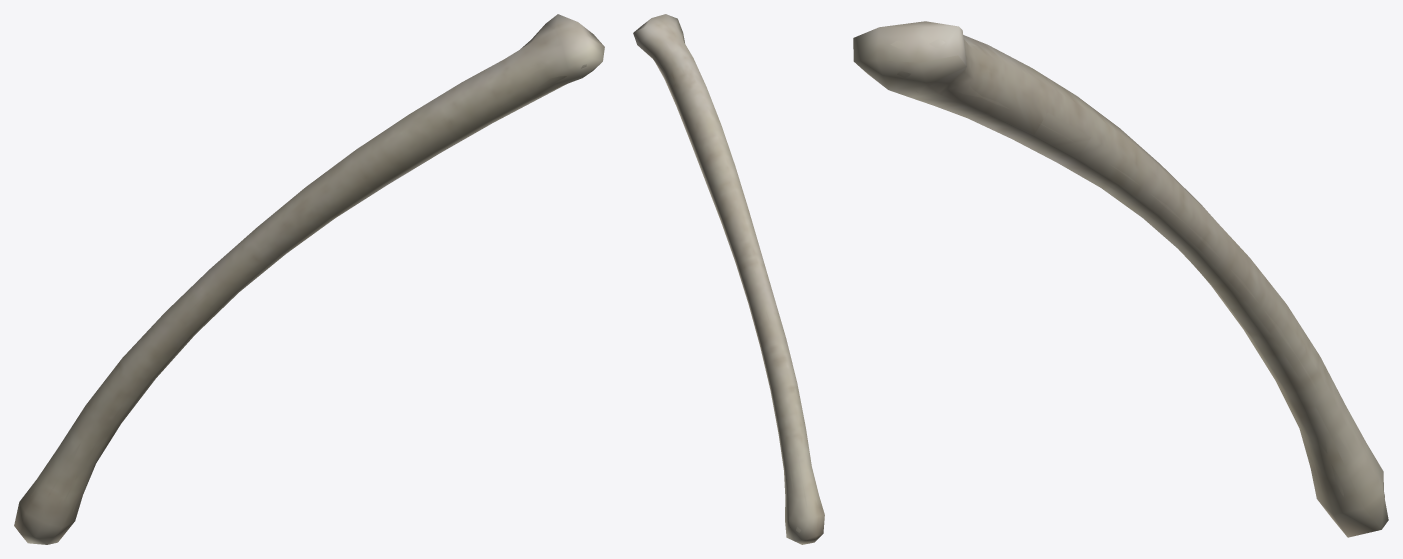
Rendered from Rib R11.fbx.
3 views of the same model, side by side, from view 1: azimuth 30°, elevation 25°; view 2: azimuth 150°, elevation 25°; view 3: azimuth 270°, elevation 25° (orthographic). The views are drawn at different scales.
Parts seen in each view (by area): view 1: Rib R11 low, Rib R11; view 2: Rib R11 low, Rib R11; view 3: Rib R11 low, Rib R11.
Part boxes in pixels (left/top/right/bottom): Rib R11 low: left=14, top=14, right=604, bottom=544; Rib R11: left=31, top=32, right=591, bottom=511; Rib R11 low: left=633, top=14, right=824, bottom=544; Rib R11: left=641, top=25, right=817, bottom=532; Rib R11 low: left=853, top=21, right=1388, bottom=537; Rib R11: left=890, top=39, right=1384, bottom=497.
Bounding box in the file's own units: 3.24 × 4.04 × 2.58.
1 material, 1 textured.
